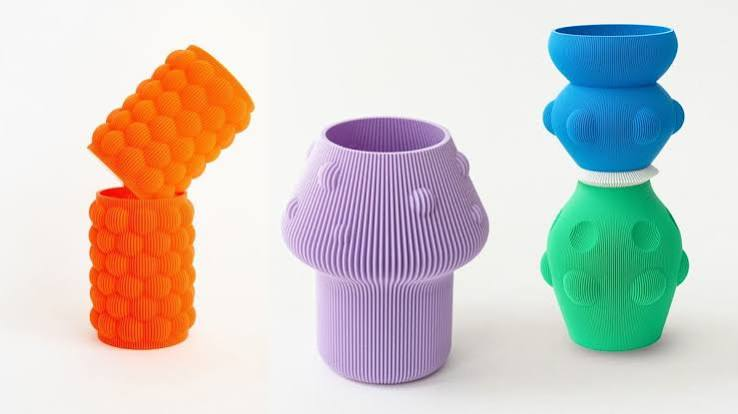3d print: (283, 118, 488, 383), (89, 46, 252, 348), (541, 25, 688, 350)
